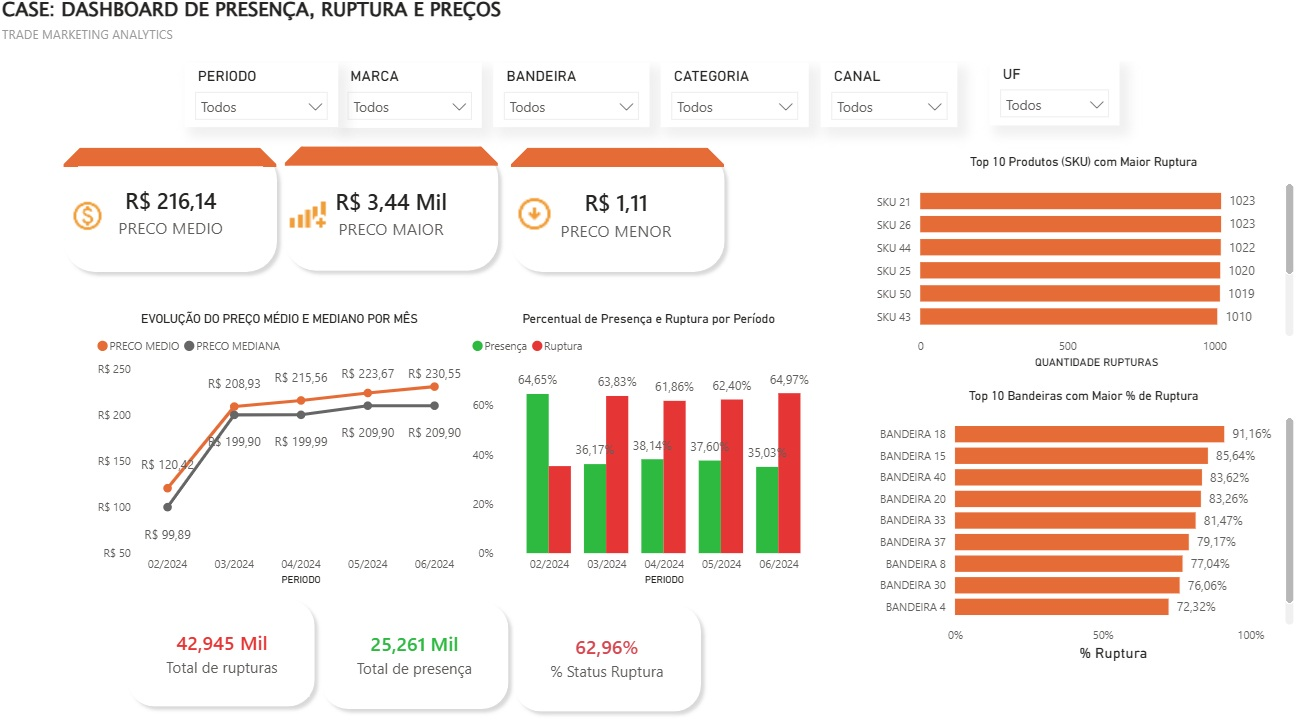

What the dashboard file says about the page in this screenshot:
{"tool":"powerbi","page":{"name":"Página 1","canvas":[1280,720],"ordinal":0},"visuals":[{"type":"group","id":"g1","title":"Grupo 1","box":[57.6,147.9,224.5,135.8],"z":0,"group":"g3"},{"type":"group","id":"g2","title":"Grupo 1","box":[120.2,588.1,199,120.8],"z":1000},{"type":"clusteredColumnChart","title":"Percentual de Presença e Ruptura por Período","fields":{"Y":["fProduto.% Status Ruptura"],"Series":["fProduto.STATUS_RUPTURA_PRESENCA"],"Category":["fProduto.mes_ano"]},"box":[459.7,314.2,355.4,271.7],"z":2000},{"type":"lineChart","title":"EVOLUÇÃO DO PREÇO MÉDIO E MEDIANO POR MÊS","fields":{"Category":["fProduto.mes_ano"],"Y":["fProduto.PRECO MEDIO","fProduto.PRECO MEDIANA"]},"box":[93.3,314.2,366.4,271.7],"z":3000},{"type":"slicer","fields":{"Values":["fProduto.MARCA"]},"box":[333.2,70.7,141.8,64.2],"z":4000},{"type":"slicer","fields":{"Values":["fProduto.BANDEIRA"]},"box":[485,70.7,152.7,63.3],"z":5000},{"type":"slicer","fields":{"Values":["fProduto.CATEGORIA"]},"box":[648.9,70.7,144.5,62.9],"z":6000},{"type":"slicer","fields":{"Values":["fProduto.CANAL"]},"box":[805.4,70.7,133.8,62.9],"z":7000},{"type":"slicer","fields":{"Values":["fProduto.UF"]},"box":[971.1,68.9,127.1,64.2],"z":8000},{"type":"slicer","fields":{"Values":["fProduto.PERIODO"]},"box":[183.1,70.7,150.4,63.3],"z":9000},{"type":"clusteredBarChart","title":"Top 10 Bandeiras com Maior % de Ruptura","fields":{"Category":["fProduto.BANDEIRA"],"Y":["fProduto.% Ruptura"]},"box":[852.7,389.7,421.3,271.7],"z":10000},{"type":"clusteredBarChart","title":"Top 10 Produtos (SKU) com Maior Ruptura","fields":{"Y":["fProduto.Qtd Ruptura SKU"],"Category":["fProduto.PRODUTO"]},"box":[852.7,161.9,421.3,214.1],"z":11000},{"type":"textbox","box":[0,0,1280.3,70],"z":12000},{"type":"cardVisual","fields":{"Data":["fProduto.PRECO MEDIO"]},"box":[79.1,172.9,181,89.2],"z":12000,"group":"g6"},{"type":"group","id":"g3","title":"Grupo 3","box":[57.6,146.8,661.4,137.2],"z":13000},{"type":"group","id":"g4","title":"Grupo 1","box":[494.3,147.9,224.5,135.8],"z":13000,"group":"g6"},{"type":"shape","box":[273.4,146.8,224.5,135.8],"z":14000,"group":"g5"},{"type":"shape","box":[57.6,147.9,224.5,135.8],"z":14000,"group":"g1"},{"type":"shape","box":[494.3,147.9,224.5,135.8],"z":14000,"group":"g4"},{"type":"cardVisual","fields":{"Data":["fProduto.PRECO MENOR"]},"box":[522.1,175.3,167.8,89.2],"z":14000,"group":"g6"},{"type":"shape","box":[120.2,588.1,199,120.8],"z":14000,"group":"g2"},{"type":"shape","box":[309.1,590.4,199,120.8],"z":14000,"group":"g7"},{"type":"shape","box":[498,592.6,199,120.8],"z":14000,"group":"g8"},{"type":"cardVisual","fields":{"Data":["CountNonNull(fProduto.STATUS_RUPTURA_PRESENCA)"]},"box":[133.9,606,171.5,85.1],"z":14000},{"type":"group","id":"g5","title":"Grupo 1","box":[273.4,146.8,224.5,135.8],"z":15000,"group":"g6"},{"type":"shape","box":[280.9,152.6,208.8,19.2],"z":15000,"group":"g5"},{"type":"shape","box":[65.1,153.7,208.8,19.2],"z":15000,"group":"g1"},{"type":"shape","box":[501.8,153.7,208.8,19.2],"z":15000,"group":"g4"},{"type":"image","box":[503.6,200.3,43.9,37],"z":15000},{"type":"cardVisual","fields":{"Data":["fProduto.PRECO MAIOR"]},"box":[298.8,174.2,172.6,89.2],"z":16000,"group":"g6"},{"type":"image","box":[72.7,203.1,32.9,35.7],"z":16000},{"type":"group","id":"g6","title":"Grupo 2","box":[79.1,146.8,639.7,136.9],"z":16001,"group":"g3"},{"type":"image","box":[282.7,200.3,42.5,38.4],"z":17000},{"type":"group","id":"g7","title":"Grupo 1","box":[309.1,590.4,199,120.8],"z":18000},{"type":"cardVisual","fields":{"Data":["CountNonNull(fProduto.STATUS_RUPTURA_PRESENCA)"]},"box":[322.9,608.3,171.5,85.1],"z":19000},{"type":"group","id":"g8","title":"Grupo 1","box":[498,592.6,199,120.8],"z":20000},{"type":"cardVisual","fields":{"Data":["fProduto.% Status Ruptura"]},"box":[511.7,610.5,171.5,85.1],"z":21000}]}

Visuals, with their boxes in screenshot pixels (x1, y1, x2, y2), scaled from the page's 1280x720 canvas onto the 1302x724 screenshot:
"Grupo 1" group: [59, 149, 287, 285]
"Grupo 1" group: [122, 591, 325, 713]
"Percentual de Presença e Ruptura por Período" clusteredColumnChart: [468, 316, 829, 589]
"EVOLUÇÃO DO PREÇO MÉDIO E MEDIANO POR MÊS" lineChart: [95, 316, 468, 589]
slicer - fProduto.MARCA: [339, 71, 483, 136]
slicer - fProduto.BANDEIRA: [493, 71, 649, 135]
slicer - fProduto.CATEGORIA: [660, 71, 807, 134]
slicer - fProduto.CANAL: [819, 71, 955, 134]
slicer - fProduto.UF: [988, 69, 1117, 134]
slicer - fProduto.PERIODO: [186, 71, 339, 135]
"Top 10 Bandeiras com Maior % de Ruptura" clusteredBarChart: [867, 392, 1296, 665]
"Top 10 Produtos (SKU) com Maior Ruptura" clusteredBarChart: [867, 163, 1296, 378]
textbox: [0, 0, 1301, 70]
cardVisual - fProduto.PRECO MEDIO: [80, 174, 265, 264]
"Grupo 3" group: [59, 148, 731, 286]
"Grupo 1" group: [503, 149, 731, 285]
shape: [278, 148, 506, 284]
shape: [59, 149, 287, 285]
shape: [503, 149, 731, 285]
cardVisual - fProduto.PRECO MENOR: [531, 176, 702, 266]
shape: [122, 591, 325, 713]
shape: [314, 594, 517, 715]
shape: [507, 596, 709, 717]
cardVisual - CountNonNull(fProduto.STATUS_RUPTURA_PRESENCA): [136, 609, 311, 695]
"Grupo 1" group: [278, 148, 506, 284]
shape: [286, 153, 498, 173]
shape: [66, 155, 279, 174]
shape: [510, 155, 723, 174]
image: [512, 201, 557, 239]
cardVisual - fProduto.PRECO MAIOR: [304, 175, 480, 265]
image: [74, 204, 107, 240]
"Grupo 2" group: [80, 148, 731, 285]
image: [288, 201, 331, 240]
"Grupo 1" group: [314, 594, 517, 715]
cardVisual - CountNonNull(fProduto.STATUS_RUPTURA_PRESENCA): [328, 612, 503, 697]
"Grupo 1" group: [507, 596, 709, 717]
cardVisual - fProduto.% Status Ruptura: [520, 614, 695, 699]
